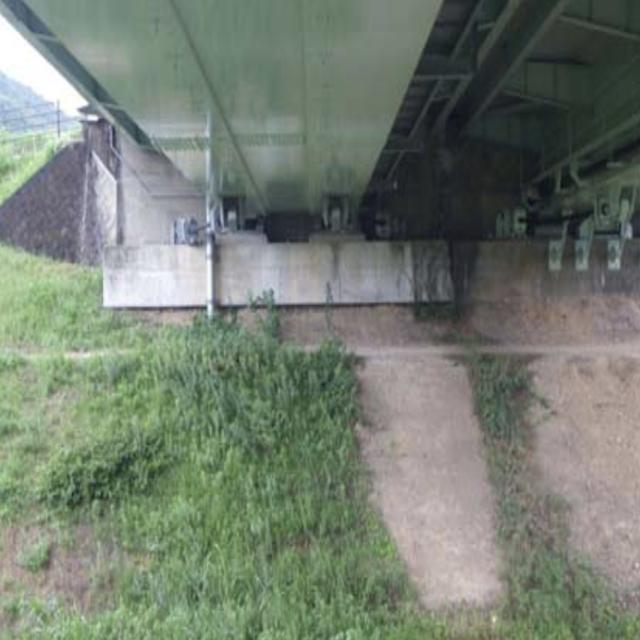leakage: (388, 140, 486, 336)
